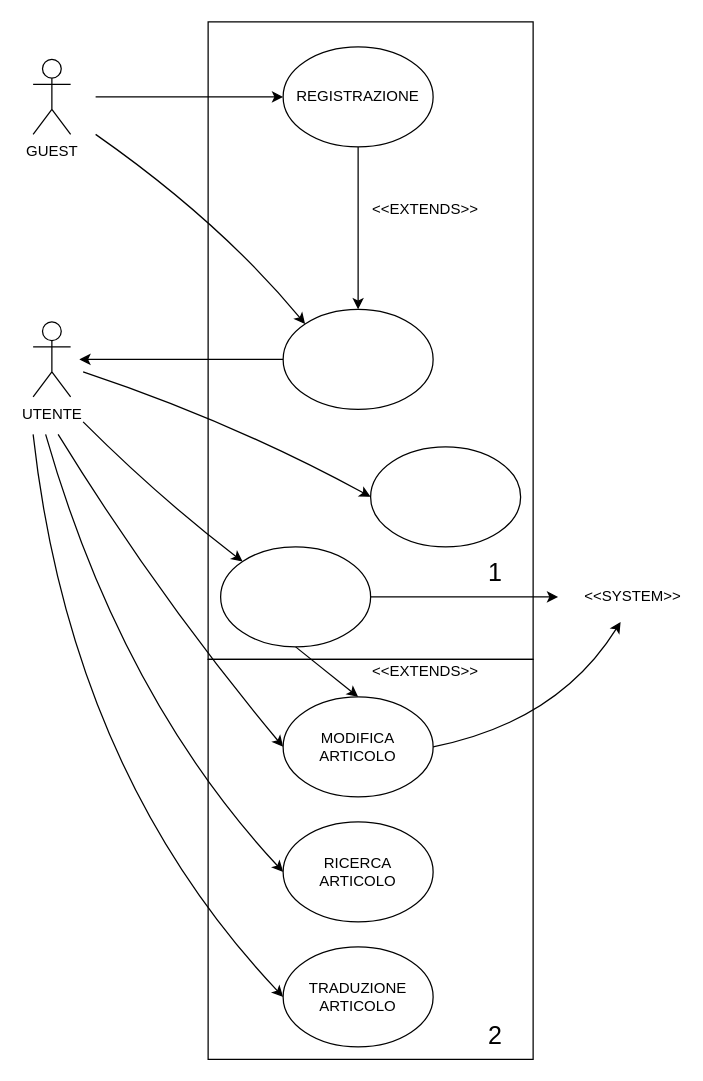
Image size: 703x1081. Some labels were removed from this diagram. Each missing label, with the box of its shape:
INSERIMENTO ARTICOLO: (219, 546, 371, 647)
LOGIN: (282, 308, 433, 409)
VEDERE BACHECA: (369, 446, 521, 547)
